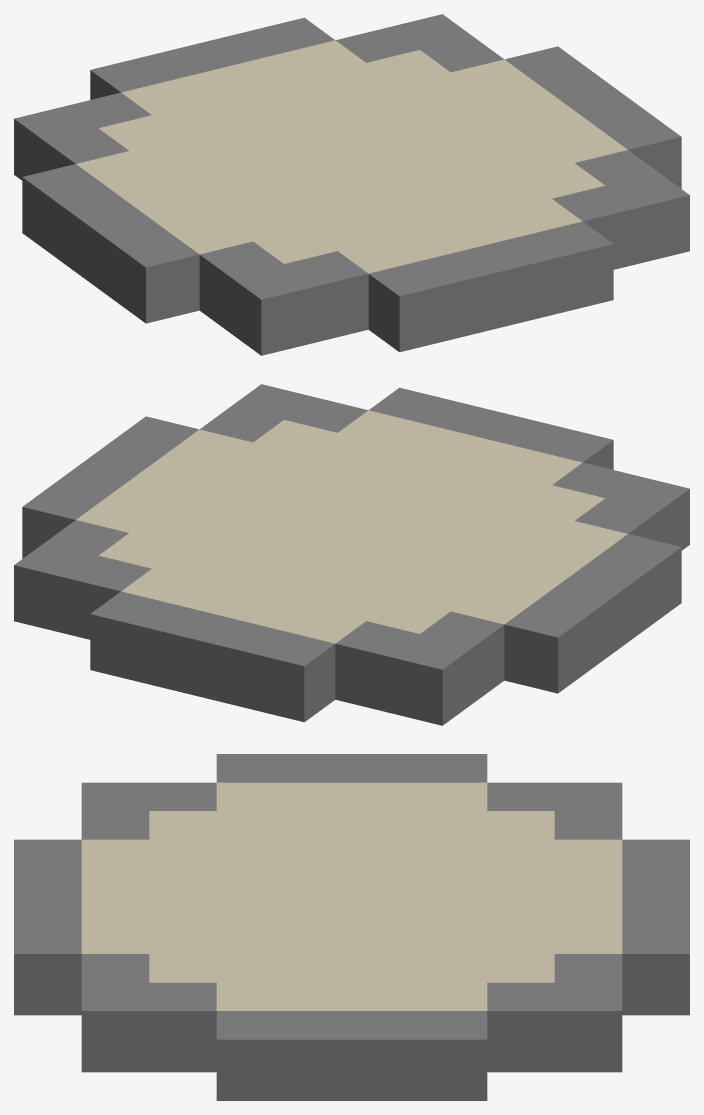
The model's file is Picnic_Set-3.obj.
3 views of the same model, one above another, from view 1: azimuth 30°, elevation 25°; view 2: azimuth 150°, elevation 25°; view 3: azimuth 270°, elevation 25° (orthographic). The views are drawn at different scales.
Bounding box in the file's own units: 1 × 0.1 × 1.
1 material, 1 textured.
